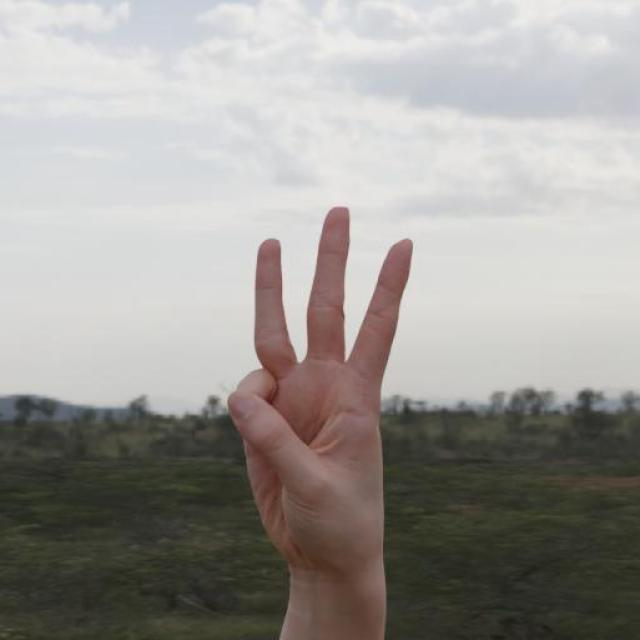W: (222, 203, 418, 589)
